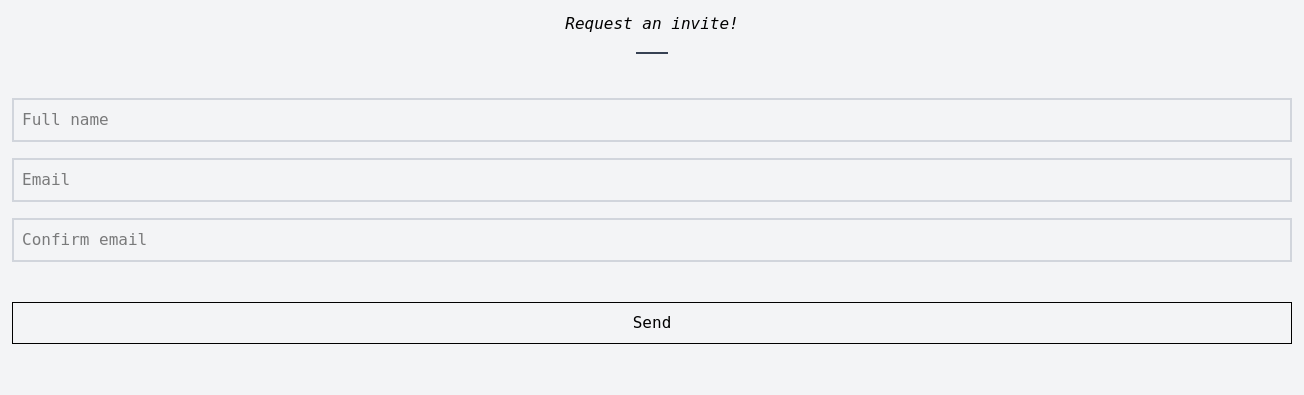
Scenario: Form Component › Should show API error message on error
Type "Hendry Prasetya" into the field with placeholder "Full name".
click(652, 120); type("Hendry Prasetya")  # box [12,98,1292,142]
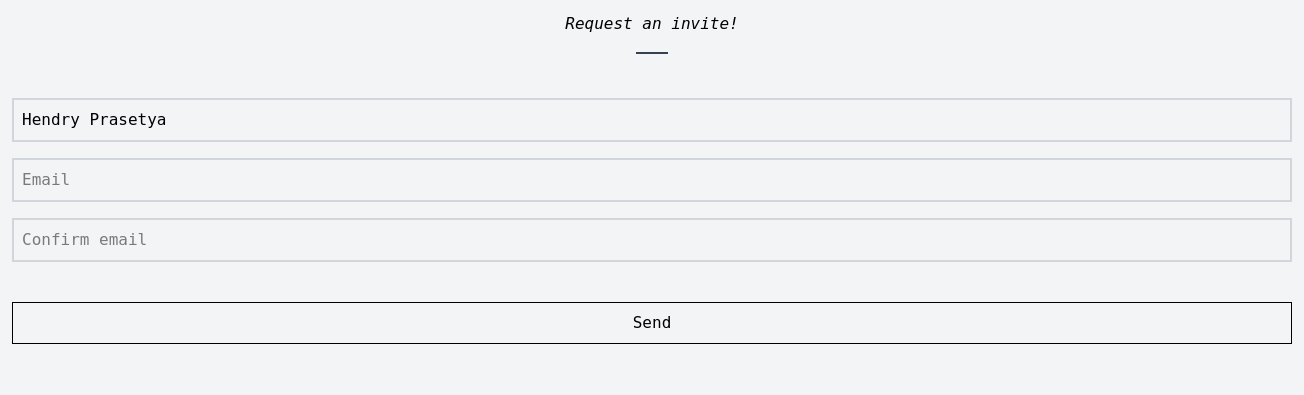
Type "mhendryp@example.com" into the field with placeholder "Email".
click(652, 180); type("mhendryp@example.com")  # box [12,158,1292,202]
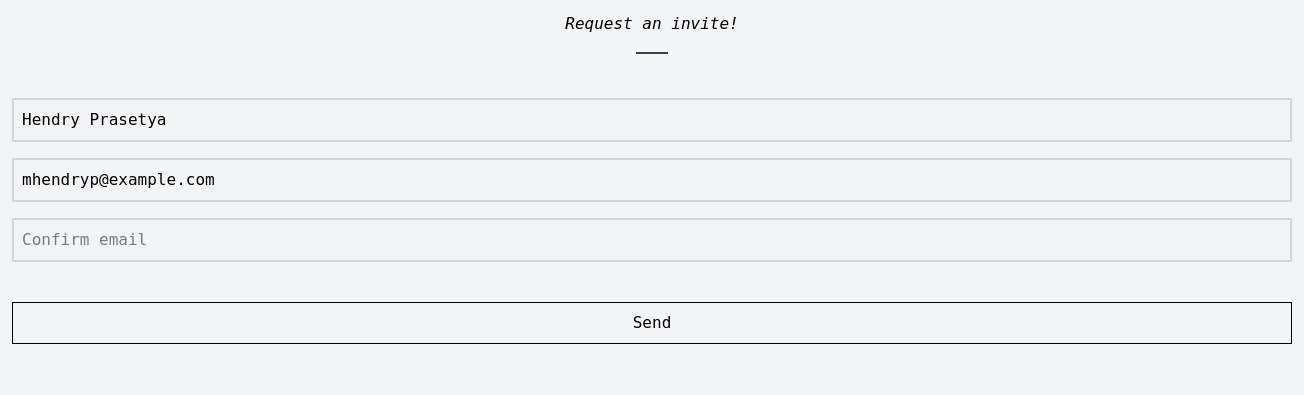
Type "mhendryp@example.com" into the field with placeholder "Confirm email".
click(652, 240); type("mhendryp@example.com")  # box [12,218,1292,262]
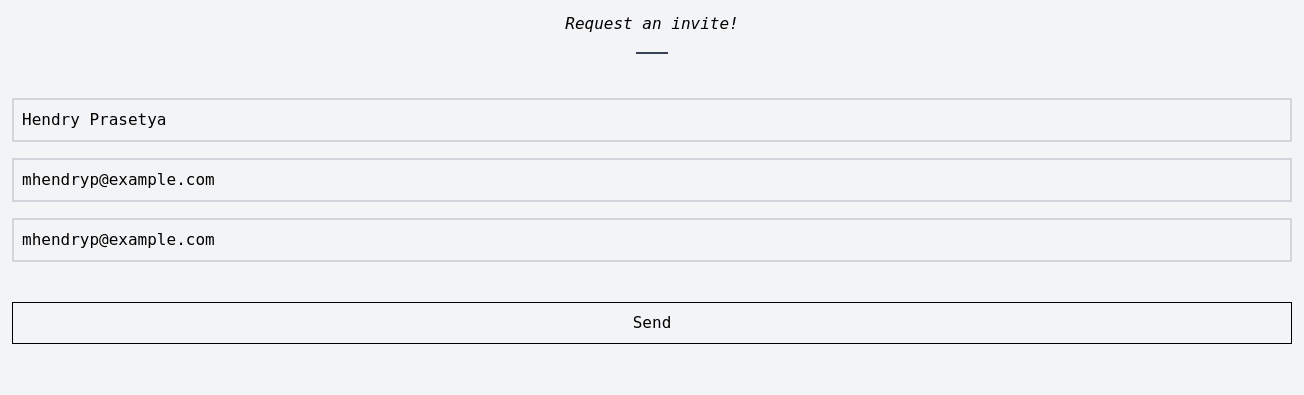
Click the button "Send".
click(652, 323)  # box [12,302,1292,344]
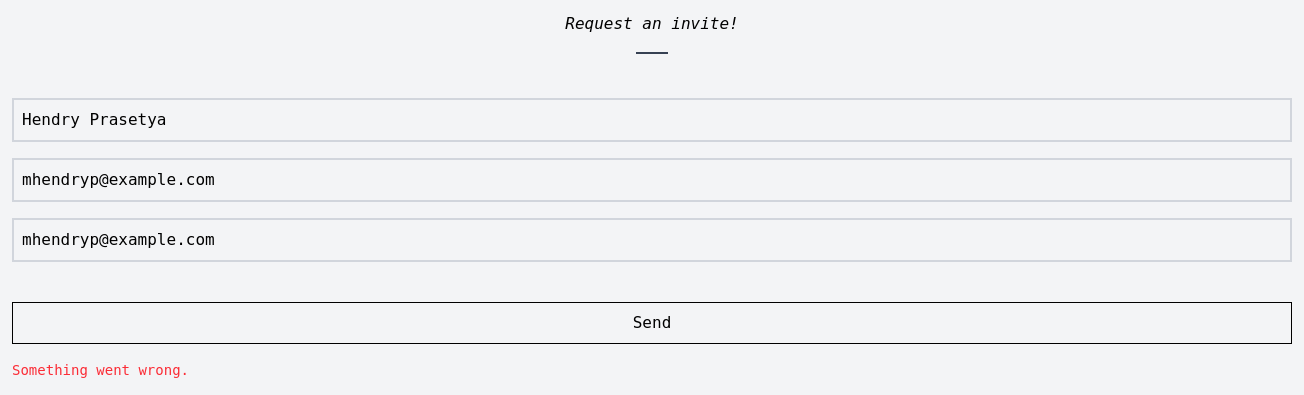
Result: the text "Something went wrong." is shown at [12,362,189,378]
